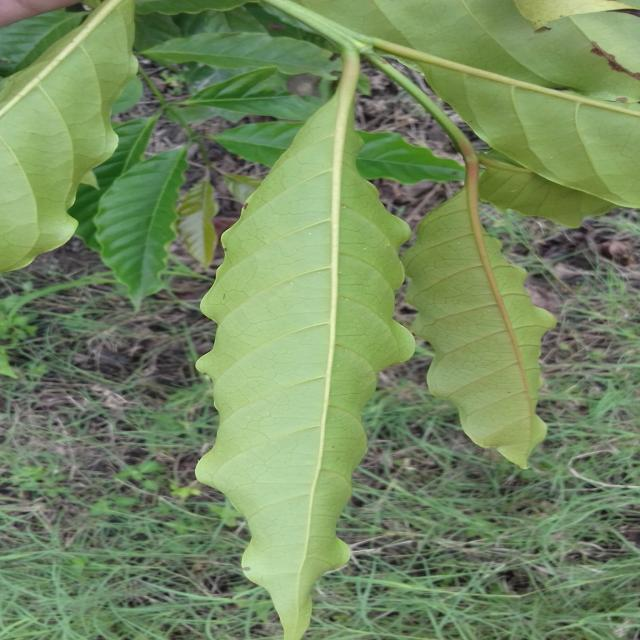Sanas: (196, 49, 413, 640)
